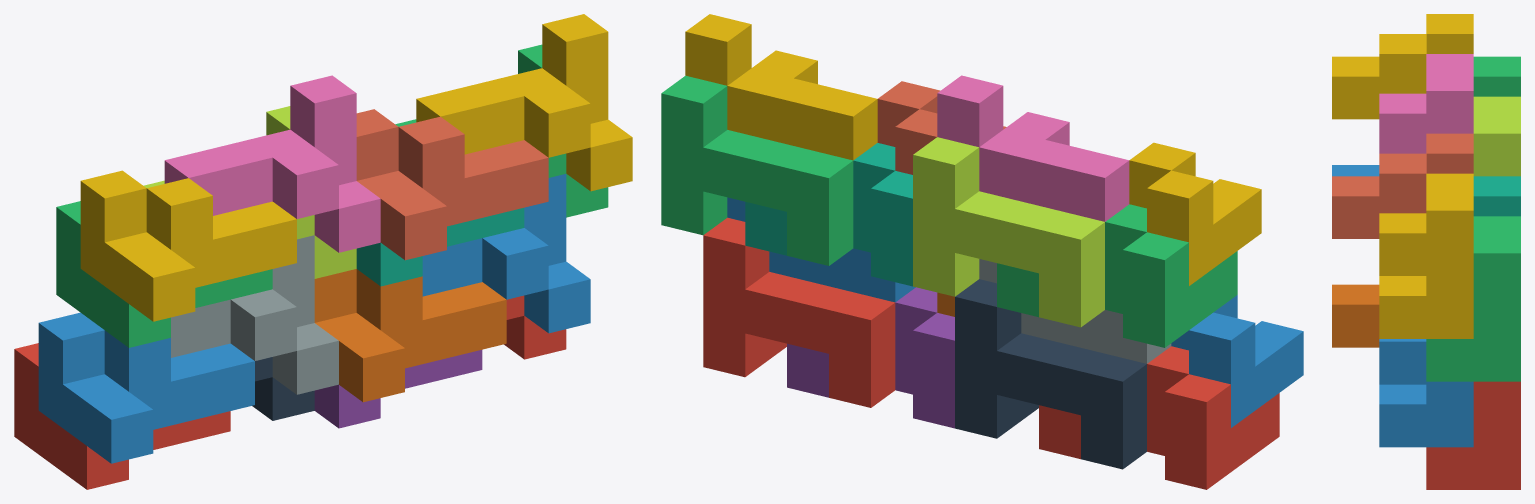
The model's file is tiling.obj.
The picture shows the model from 3 angles, left to right: view 1: azimuth 30°, elevation 25°; view 2: azimuth 150°, elevation 25°; view 3: azimuth 270°, elevation 25°; orthographic projection. The views are drawn at different scales.
Parts seen in each view (by area): view 1: copy_1_domain_4, copy_1_domain_2, copy_2_domain_8, copy_2_domain_4, copy_1_domain_8, copy_1_domain_6, copy_2_domain_6, copy_2_domain_2, copy_1_domain_1, copy_1_domain_3, copy_1_domain_5, copy_1_domain_7 (+4 smaller); view 2: copy_2_domain_7, copy_2_domain_3, copy_2_domain_5, copy_2_domain_1, copy_2_domain_4, copy_2_domain_8, copy_1_domain_1, copy_1_domain_3, copy_1_domain_4, copy_1_domain_7, copy_1_domain_5, copy_1_domain_2 (+3 smaller); view 3: copy_2_domain_8, copy_2_domain_7, copy_2_domain_6, copy_1_domain_8, copy_1_domain_4, copy_2_domain_5, copy_2_domain_4, copy_2_domain_3, copy_1_domain_6, copy_1_domain_3, copy_1_domain_7, copy_1_domain_2.
Boxes of the visible parts, left/top/right/bottom form: copy_1_domain_4: left=80, top=170, right=296, bottom=321; copy_1_domain_2: left=38, top=312, right=254, bottom=463; copy_2_domain_8: left=416, top=14, right=632, bottom=191; copy_2_domain_4: left=164, top=75, right=380, bottom=252; copy_1_domain_8: left=356, top=109, right=548, bottom=260; copy_1_domain_6: left=314, top=269, right=506, bottom=402; copy_2_domain_6: left=422, top=174, right=590, bottom=333; copy_2_domain_2: left=171, top=235, right=338, bottom=394; copy_1_domain_1: left=14, top=343, right=230, bottom=489; copy_1_domain_3: left=56, top=201, right=272, bottom=347; copy_1_domain_5: left=314, top=350, right=482, bottom=428; copy_1_domain_7: left=356, top=208, right=524, bottom=286; copy_2_domain_7: left=661, top=75, right=853, bottom=265; copy_2_domain_3: left=913, top=137, right=1104, bottom=327; copy_2_domain_5: left=703, top=217, right=895, bottom=407; copy_2_domain_1: left=955, top=279, right=1146, bottom=469; copy_2_domain_4: left=937, top=75, right=1129, bottom=221; copy_2_domain_8: left=685, top=14, right=877, bottom=160; copy_1_domain_1: left=1039, top=346, right=1279, bottom=489; copy_1_domain_3: left=997, top=204, right=1237, bottom=347; copy_1_domain_4: left=1129, top=142, right=1261, bottom=285; copy_1_domain_7: left=745, top=143, right=912, bottom=286; copy_1_domain_5: left=787, top=287, right=954, bottom=428; copy_1_domain_2: left=1171, top=295, right=1303, bottom=427; copy_2_domain_8: left=1379, top=173, right=1473, bottom=338; copy_2_domain_7: left=1426, top=216, right=1520, bottom=381; copy_2_domain_6: left=1379, top=339, right=1473, bottom=447; copy_1_domain_8: left=1332, top=133, right=1473, bottom=238; copy_1_domain_4: left=1332, top=14, right=1473, bottom=119; copy_2_domain_5: left=1426, top=381, right=1520, bottom=489; copy_2_domain_4: left=1379, top=54, right=1473, bottom=153; copy_2_domain_3: left=1473, top=96, right=1520, bottom=176; copy_1_domain_6: left=1332, top=284, right=1379, bottom=347; copy_1_domain_3: left=1473, top=56, right=1520, bottom=96; copy_1_domain_7: left=1473, top=176, right=1520, bottom=216; copy_1_domain_2: left=1332, top=165, right=1379, bottom=176.
Bounding box in the file's own units: 13 × 7 × 4.
